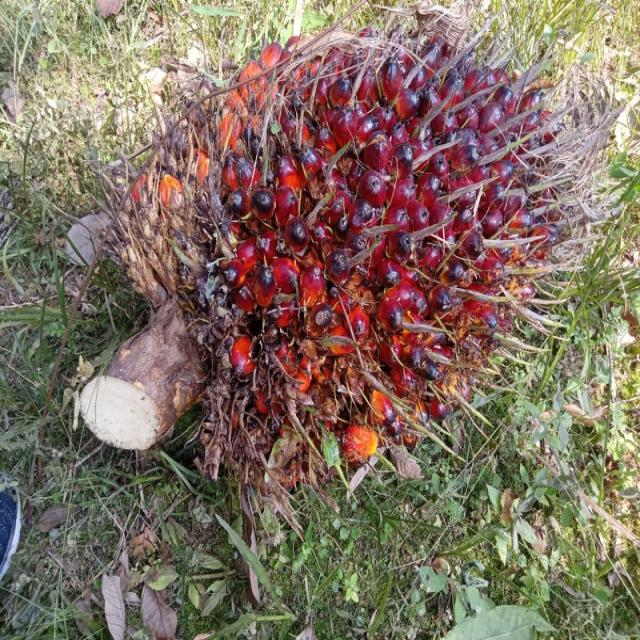fraksi 3: (83, 14, 604, 576)
